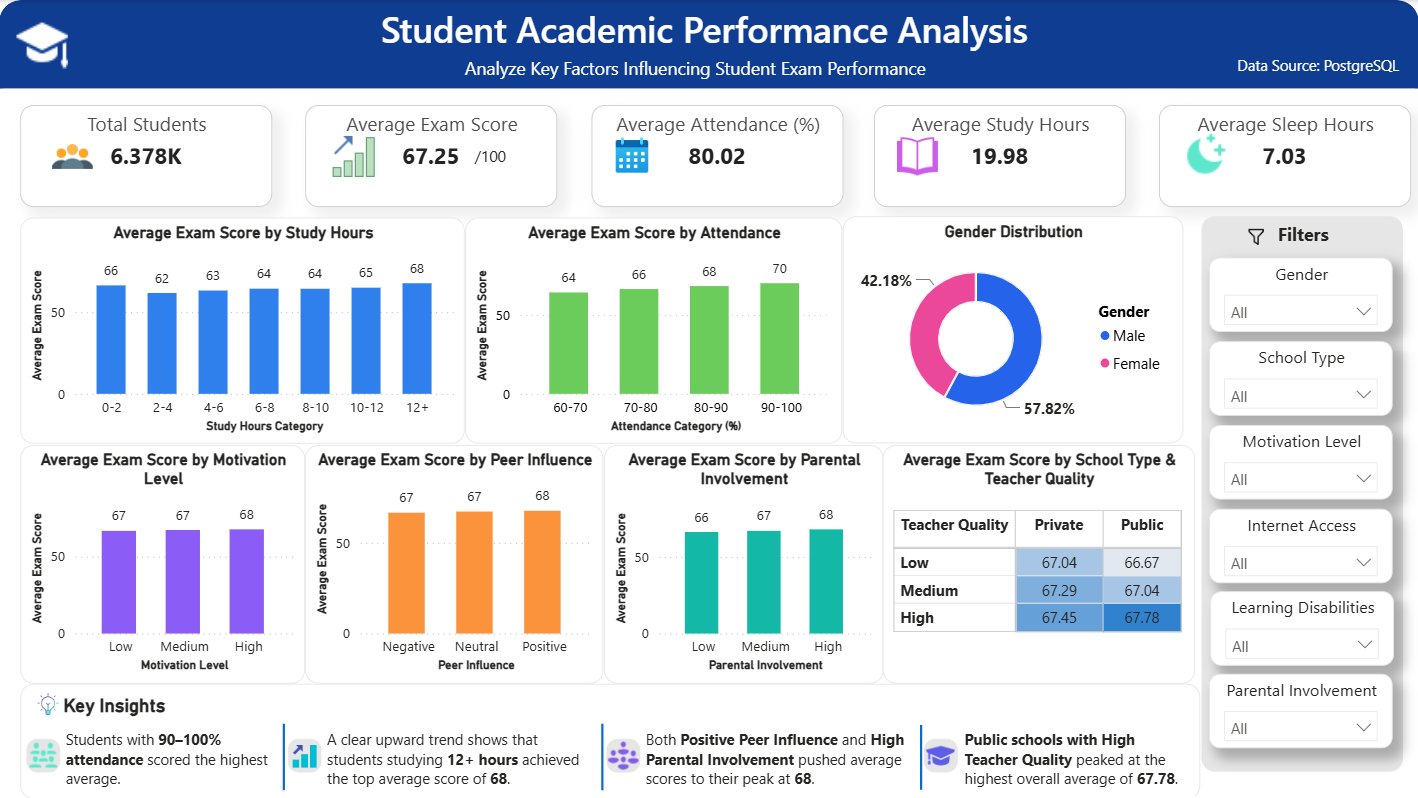

The dashboard page shown, as its layout file describes it:
{"tool":"powerbi","page":{"name":"Page 1","canvas":[1280,720],"ordinal":0},"visuals":[{"type":"textbox","box":[9.8,9.8,1255.8,70.9],"z":0},{"type":"shape","box":[0,0,1280.3,80],"z":1000},{"type":"textbox","box":[299.6,0,672.6,53.8],"z":2000},{"type":"textbox","box":[403.5,45.2,448.8,34.2],"z":3000},{"type":"textbox","box":[1099.3,45.2,181,34.2],"z":4000},{"type":"image","box":[9.8,15.9,57.5,46.5],"z":5000},{"type":"cardVisual","title":"Total Students","fields":{"Data":["public student_performance.Total Student"]},"box":[19.6,94.5,227,92],"z":6000},{"type":"image","box":[46.5,121.1,40.4,40.4],"z":7000},{"type":"cardVisual","title":"Average Exam Score","fields":{"Data":["public student_performance.Average Exam Score"]},"box":[276.4,94.2,227,92],"z":8000},{"type":"image","box":[299.6,121.1,40.4,40.4],"z":9000},{"type":"cardVisual","title":"Average Attendance (%)","fields":{"Data":["public student_performance.Average Attendance"]},"box":[533.9,94.5,227.1,92.1],"z":10000},{"type":"image","box":[551.5,121.1,39.1,40.4],"z":11000},{"type":"cardVisual","title":"Average Study Hours","fields":{"Data":["public student_performance.Average Study Hours"]},"box":[789.3,94.5,227.1,92.1],"z":12000},{"type":"cardVisual","title":"Average Sleep Hours","fields":{"Data":["public student_performance.Average Sleep Hours"]},"box":[1045.5,94.2,227,92],"z":13000},{"type":"image","box":[808.3,121.1,40.4,40.4],"z":14000},{"type":"image","box":[1067.5,121.1,40.4,40.4],"z":15000},{"type":"textbox","box":[421,126.4,43,28.2],"z":16000},{"type":"textbox","title":"Filters","box":[1083.9,195.2,181.7,500.8],"z":17000},{"type":"slicer","title":"Gender","fields":{"Values":["public student_performance.gender"]},"box":[1091.2,232,165.7,67.5],"z":18000},{"type":"slicer","title":"School Type","fields":{"Values":["public student_performance.school_type"]},"box":[1091.2,308.1,165.7,67],"z":19000},{"type":"slicer","title":"Motivation Level","fields":{"Values":["public student_performance.motivation_level"]},"box":[1091.2,383,165.7,67],"z":20000},{"type":"slicer","title":"Internet Access","fields":{"Values":["public student_performance.internet_access"]},"box":[1091.2,459.1,165.7,67],"z":21000},{"type":"slicer","title":"Learning Disabilities","fields":{"Values":["public student_performance.learning_disabilities"]},"box":[1092.4,532.7,165.7,67],"z":22000},{"type":"image","box":[1120.7,203.8,27,18.4],"z":23000},{"type":"slicer","title":"Parental Involvement","fields":{"Values":["public student_performance.parental_involvement"]},"box":[1091.2,607.6,165.7,67],"z":24000},{"type":"columnChart","title":"Average Exam Score by Study Hours ","fields":{"Y":["public student_performance.Average Exam Score"],"Category":["public student_performance.Study Hours Category"]},"box":[19.6,195.7,401.1,204.2],"z":25000},{"type":"columnChart","title":"Average Exam Score by Parental Involvement","fields":{"Category":["public student_performance.parental_involvement"],"Y":["public student_performance.Average Exam Score"]},"box":[545.4,401.1,251.9,215.2],"z":26000},{"type":"donutChart","title":"Gender Distribution","fields":{"Y":["CountNonNull(public student_performance.gender)"],"Category":["public student_performance.gender"]},"box":[761,195.2,306.9,205],"z":27000},{"type":"columnChart","title":"Average Exam Score by Motivation Level","fields":{"Category":["public student_performance.motivation_level"],"Y":["public student_performance.Average Exam Score"]},"box":[19.6,401.1,256.8,215.2],"z":28000},{"type":"columnChart","title":"Average Exam Score by Peer Influence","fields":{"Category":["public student_performance.peer_influence"],"Y":["public student_performance.Average Exam Score"]},"box":[276.4,401.1,269,215.2],"z":29000},{"type":"columnChart","title":"Average Exam Score by Attendance ","fields":{"Category":["public student_performance.Attendance Category"],"Y":["public student_performance.Average Exam Score"]},"box":[420.7,195.7,339.9,204.2],"z":30000},{"type":"pivotTable","title":"Average Exam Score by School Type & Teacher Quality","fields":{"Values":["public student_performance.Average Exam Score"],"Columns":["public student_performance.school_type"],"Rows":["public student_performance.teacher_quality"]},"box":[797.3,401.1,281.3,215.2],"z":31000},{"type":"textbox","box":[19.6,616.3,1063.9,103.9],"z":32000},{"type":"shape","box":[247,653,20,59.9],"z":33000},{"type":"image","box":[34.2,616.3,20.8,36.7],"z":34000},{"type":"textbox","box":[55,653,194.4,68],"z":35000},{"type":"image","box":[260.5,666.4,30.6,30.6],"z":36000},{"type":"textbox","box":[291,653,243.3,68],"z":37000},{"type":"shape","box":[534.4,653,19.6,59.9],"z":38000},{"type":"image","box":[24.5,666.4,30.6,30.6],"z":39000},{"type":"textbox","box":[578.4,653,243.3,68],"z":40000},{"type":"image","box":[547.8,666.4,30.6,30.6],"z":41000},{"type":"shape","box":[821.7,654.2,19.6,58.7],"z":42000},{"type":"textbox","box":[865.8,653,212.8,68],"z":43000},{"type":"image","box":[834,666.4,30,30.6],"z":44000}]}

Visuals, with their boxes in screenshot pixels (x1, y1, x2, y2), scaled from the page's 1280x720 canvas onto the 1418x798 screenshot:
textbox: (left=11, top=11, right=1402, bottom=89)
shape: (left=0, top=0, right=1417, bottom=89)
textbox: (left=332, top=0, right=1077, bottom=60)
textbox: (left=447, top=50, right=944, bottom=88)
textbox: (left=1218, top=50, right=1417, bottom=88)
image: (left=11, top=18, right=75, bottom=69)
"Total Students" cardVisual: (left=22, top=105, right=273, bottom=207)
image: (left=52, top=134, right=96, bottom=179)
"Average Exam Score" cardVisual: (left=306, top=104, right=558, bottom=206)
image: (left=332, top=134, right=377, bottom=179)
"Average Attendance (%)" cardVisual: (left=591, top=105, right=843, bottom=207)
image: (left=611, top=134, right=654, bottom=179)
"Average Study Hours" cardVisual: (left=874, top=105, right=1126, bottom=207)
"Average Sleep Hours" cardVisual: (left=1158, top=104, right=1410, bottom=206)
image: (left=895, top=134, right=940, bottom=179)
image: (left=1183, top=134, right=1227, bottom=179)
textbox: (left=466, top=140, right=514, bottom=171)
"Filters" textbox: (left=1201, top=216, right=1402, bottom=771)
"Gender" slicer: (left=1209, top=257, right=1392, bottom=332)
"School Type" slicer: (left=1209, top=341, right=1392, bottom=416)
"Motivation Level" slicer: (left=1209, top=424, right=1392, bottom=499)
"Internet Access" slicer: (left=1209, top=509, right=1392, bottom=583)
"Learning Disabilities" slicer: (left=1210, top=590, right=1394, bottom=665)
image: (left=1242, top=226, right=1271, bottom=246)
"Parental Involvement" slicer: (left=1209, top=673, right=1392, bottom=748)
"Average Exam Score by Study Hours " columnChart: (left=22, top=217, right=466, bottom=443)
"Average Exam Score by Parental Involvement" columnChart: (left=604, top=445, right=883, bottom=683)
"Gender Distribution" donutChart: (left=843, top=216, right=1183, bottom=444)
"Average Exam Score by Motivation Level" columnChart: (left=22, top=445, right=306, bottom=683)
"Average Exam Score by Peer Influence" columnChart: (left=306, top=445, right=604, bottom=683)
"Average Exam Score by Attendance " columnChart: (left=466, top=217, right=843, bottom=443)
"Average Exam Score by School Type & Teacher Quality" pivotTable: (left=883, top=445, right=1195, bottom=683)
textbox: (left=22, top=683, right=1200, bottom=797)
shape: (left=274, top=724, right=296, bottom=790)
image: (left=38, top=683, right=61, bottom=724)
textbox: (left=61, top=724, right=276, bottom=797)
image: (left=289, top=739, right=322, bottom=773)
textbox: (left=322, top=724, right=592, bottom=797)
shape: (left=592, top=724, right=614, bottom=790)
image: (left=27, top=739, right=61, bottom=773)
textbox: (left=641, top=724, right=910, bottom=797)
image: (left=607, top=739, right=641, bottom=773)
shape: (left=910, top=725, right=932, bottom=790)
textbox: (left=959, top=724, right=1195, bottom=797)
image: (left=924, top=739, right=957, bottom=773)
